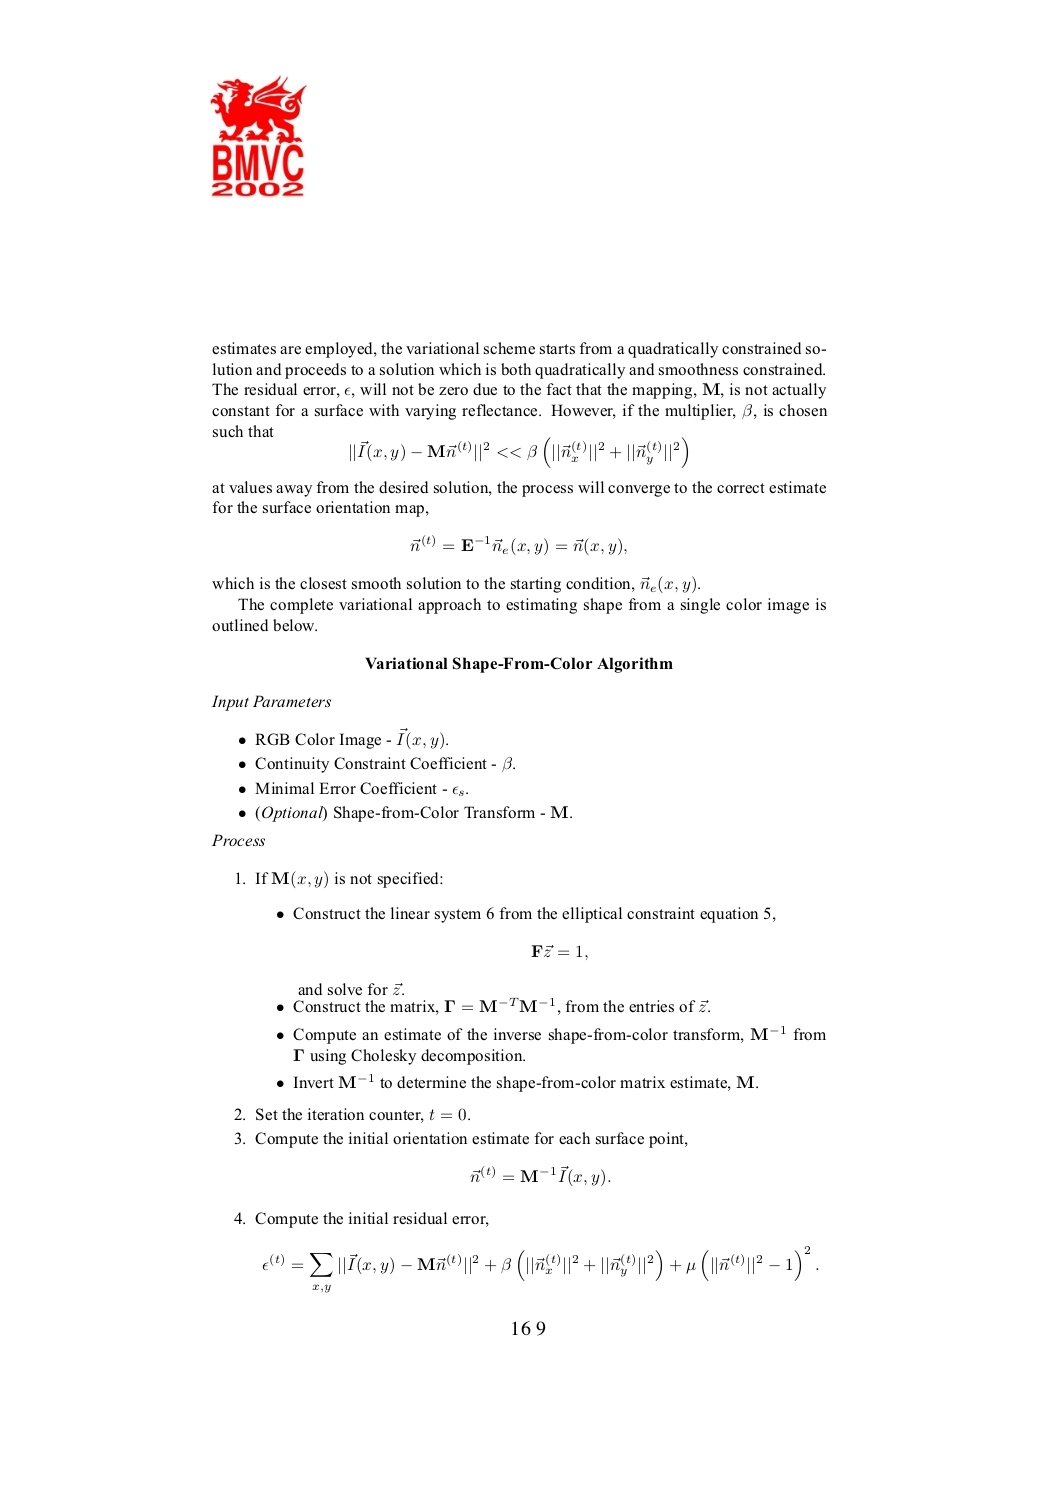figure: (210, 73, 305, 197)
formula: (262, 1246, 818, 1292), (350, 437, 688, 467), (410, 534, 626, 556), (470, 1165, 610, 1187), (530, 944, 587, 957)
